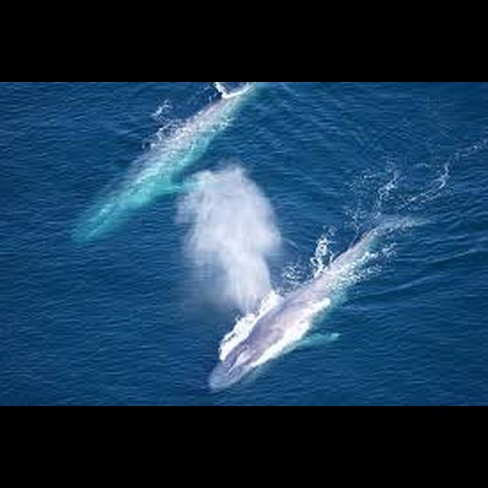bluewhale: (208, 207, 433, 397), (74, 84, 261, 251)
